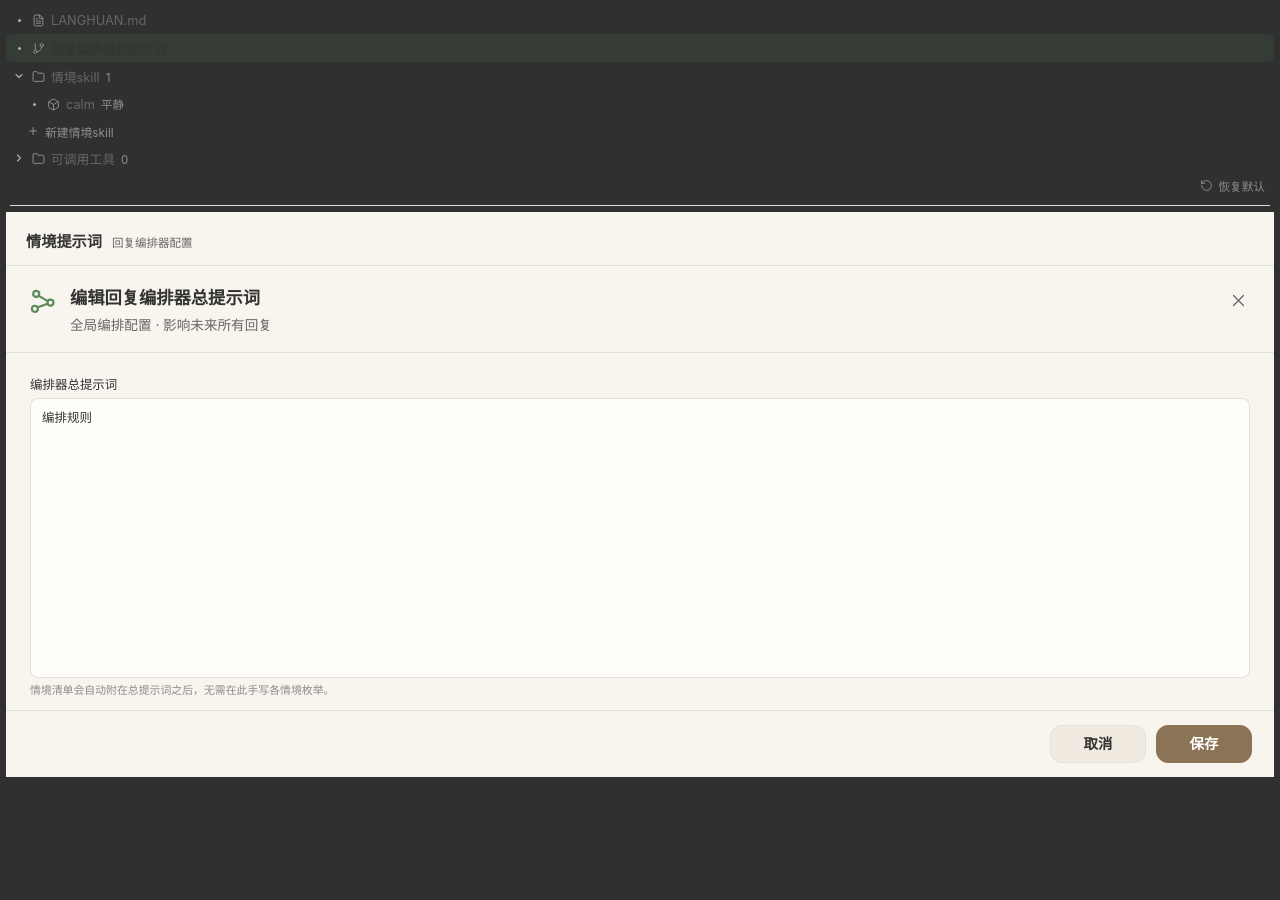
it: ScenarioPromptLibraryPanel › puts the tree in the external left column and opens details inline on the right
Expected: the button with test id "restore-orchestrator-defaults" is shown, top-left (1195, 172), bottom-right (1270, 198)
Click the element named "右键新建挂载提示词": x=78, y=104 top-left (32, 97), bottom-right (124, 112)
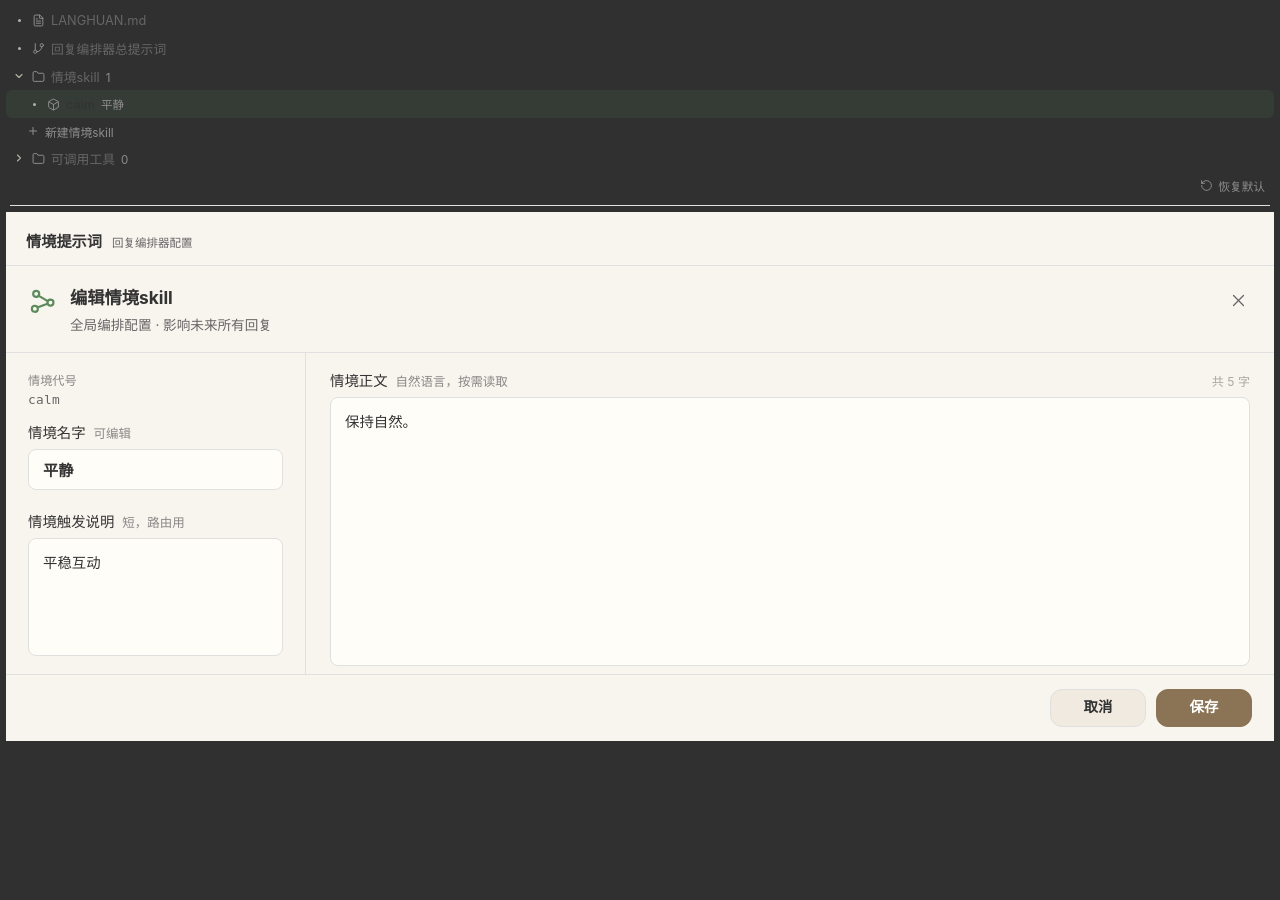
Expected: the element with class "opt-detail" shows "编辑情境skill", top-left (70, 287), bottom-right (173, 308)
Expected: the element with class "opt-detail" shows "情境正文", top-left (330, 372), bottom-right (388, 389)
